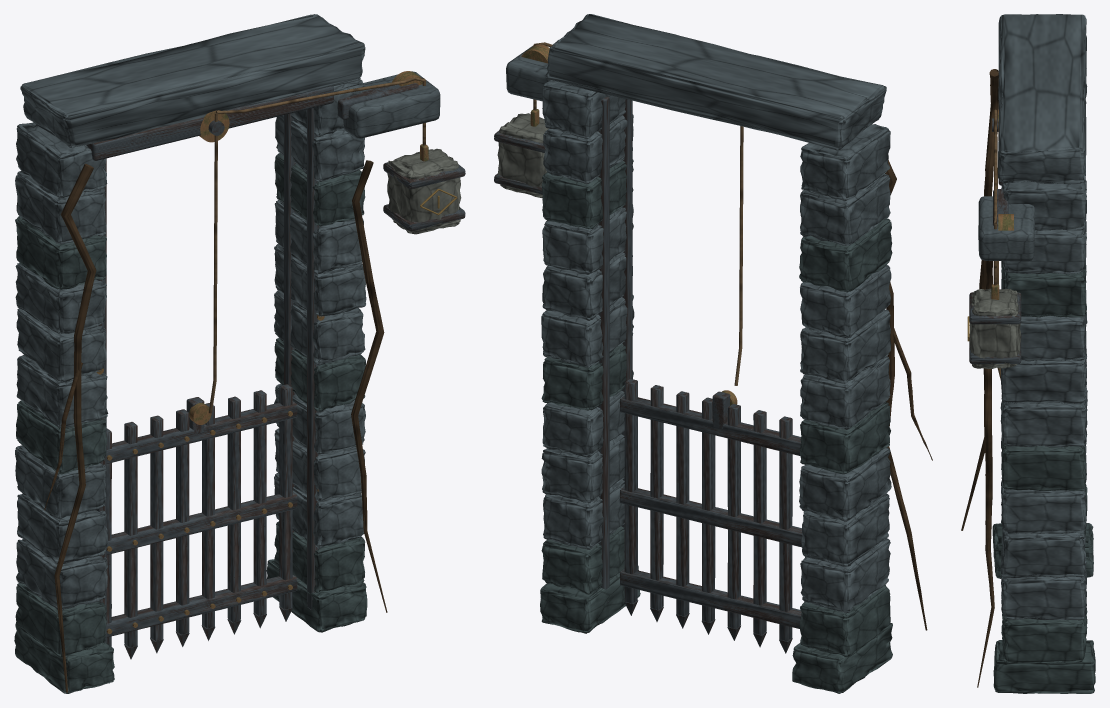
File: rootlet_canal_gate.glb
3 views of the same model, side by side, from view 1: azimuth 30°, elevation 25°; view 2: azimuth 150°, elevation 25°; view 3: azimuth 270°, elevation 25° (orthographic). The views are drawn at different scales.
Visible parts, largest first — view 1: Heavy stone lintel, Canal ashlar left 11, Marked river stone counterweight, Canal ashlar left 1, Canal ashlar left 2, Pillar root left, Gate guide right -0.164, Canal ashlar left 3, Canal ashlar left 9, Canal ashlar left 4, Canal ashlar left 7, Canal ashlar left 10 (+37 smaller); view 2: Heavy stone lintel, Canal ashlar left 11, Canal ashlar left 9, Canal ashlar left 4, Canal ashlar left 6, Canal ashlar left 7, Canal ashlar left 2, Canal ashlar left 10, Canal ashlar left 8, Canal ashlar left 5, Canal ashlar left 1, Gate guide right 0.174 (+29 smaller); view 3: Heavy stone lintel, Canal ashlar right 6, Canal ashlar right 3, Canal ashlar right 4, Canal ashlar right 5, Canal ashlar right 1, Canal ashlar right 2, Canal ashlar right 7, External footing right, Canal ashlar right 9, Canal ashlar right 11, Marked river stone counterweight (+11 smaller).
Part boxes in pixels (<box>): Heavy stone lintel: <box>20,14,365,147</box>; Canal ashlar left 11: <box>16,122,107,197</box>; Marked river stone counterweight: <box>387,148,461,234</box>; Canal ashlar left 1: <box>15,583,106,657</box>; Canal ashlar left 2: <box>16,539,108,609</box>; Pillar root left: <box>54,163,96,692</box>; Gate guide right -0.164: <box>307,108,318,609</box>; Canal ashlar left 3: <box>17,493,108,563</box>; Canal ashlar left 9: <box>15,216,106,289</box>; Canal ashlar left 4: <box>15,445,106,518</box>; Canal ashlar left 7: <box>16,308,106,382</box>; Canal ashlar left 10: <box>15,171,106,244</box>; Heavy stone lintel: <box>545,14,886,150</box>; Canal ashlar left 11: <box>800,124,890,201</box>; Canal ashlar left 9: <box>799,218,892,292</box>; Canal ashlar left 4: <box>799,447,891,521</box>; Canal ashlar left 6: <box>800,356,890,429</box>; Canal ashlar left 7: <box>800,309,891,383</box>; Canal ashlar left 2: <box>800,538,890,613</box>; Canal ashlar left 10: <box>800,174,890,245</box>; Canal ashlar left 8: <box>800,265,891,338</box>; Canal ashlar left 5: <box>799,402,890,474</box>; Canal ashlar left 1: <box>799,584,890,657</box>; Gate guide right 0.174: <box>598,96,609,603</box>; Heavy stone lintel: <box>998,14,1086,184</box>; Canal ashlar right 6: <box>1000,387,1087,447</box>; Canal ashlar right 3: <box>1000,527,1086,577</box>; Canal ashlar right 4: <box>1001,477,1086,533</box>; Canal ashlar right 5: <box>1001,442,1086,490</box>; Canal ashlar right 1: <box>1001,608,1087,663</box>; Canal ashlar right 2: <box>1001,559,1087,620</box>; Canal ashlar right 7: <box>1000,345,1086,403</box>; External footing right: <box>993,640,1095,693</box>; Canal ashlar right 9: <box>1001,261,1086,317</box>; Canal ashlar right 11: <box>1002,172,1086,230</box>; Marked river stone counterweight: <box>969,288,1020,368</box>.
Bounding box in the file's own units: 3.51 × 4.64 × 1.04.
Materials: 8 (8 with a texture image).
